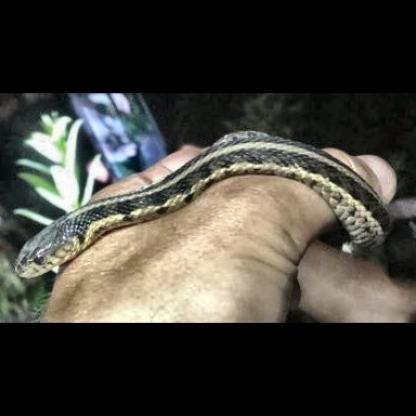Snake: (14, 130, 413, 284)
